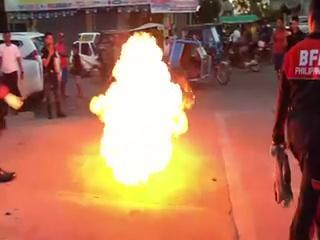Fire: (85, 30, 192, 189)
